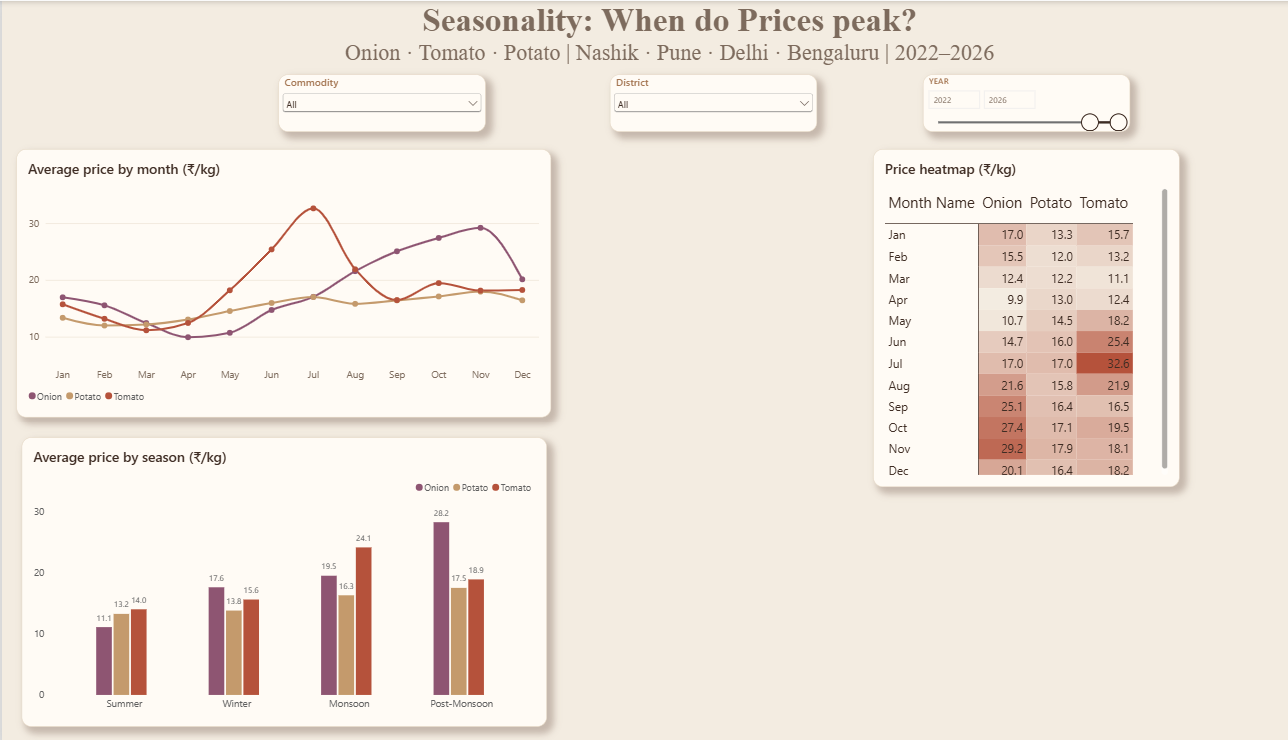

What the dashboard file says about the page in this screenshot:
{"tool":"powerbi","page":{"name":"Seasonality","canvas":[1920,1080],"ordinal":1},"visuals":[{"type":"textbox","box":[20.9,0,1900.1,92.9],"z":0},{"type":"slicer","fields":{"Values":["prices.Commodity"]},"box":[400.1,106.2,300,83.3],"z":1000},{"type":"slicer","fields":{"Values":["Districts.District"]},"box":[879.9,106.2,300,83.3],"z":2000},{"type":"slicer","fields":{"Values":["Date.YEAR"]},"box":[1333.1,106.2,300,83.3],"z":3000},{"type":"lineChart","title":"Average price by month (₹/kg)","fields":{"Category":["Date.Month Name"],"Series":["prices.Commodity"],"Y":["prices.Average ₹/kg"]},"box":[20.9,214.3,773.7,388.8],"z":4000},{"type":"pivotTable","title":"Price heatmap (₹/kg)","fields":{"Columns":["prices.Commodity"],"Rows":["Date.Month Name"],"Values":["prices.Average ₹/kg"]},"box":[1261.1,214.3,443.7,489.3],"z":5000},{"type":"clusteredColumnChart","title":"Average price by season (₹/kg)","fields":{"Category":["prices.Season"],"Series":["prices.Commodity"],"Y":["prices.Average ₹/kg"]},"box":[28.4,631.5,760,419.1],"z":6000}]}

Visuals, with their boxes in screenshot pixels (x1, y1, x2, y2), scaled from the page's 1920x1080 canvas onto the 1288x740 screenshot:
textbox: detection(14, 0, 1287, 64)
slicer - prices.Commodity: detection(268, 73, 470, 130)
slicer - Districts.District: detection(590, 73, 792, 130)
slicer - Date.YEAR: detection(894, 73, 1096, 130)
"Average price by month (₹/kg)" lineChart: detection(14, 147, 533, 413)
"Price heatmap (₹/kg)" pivotTable: detection(846, 147, 1144, 482)
"Average price by season (₹/kg)" clusteredColumnChart: detection(19, 433, 529, 720)
